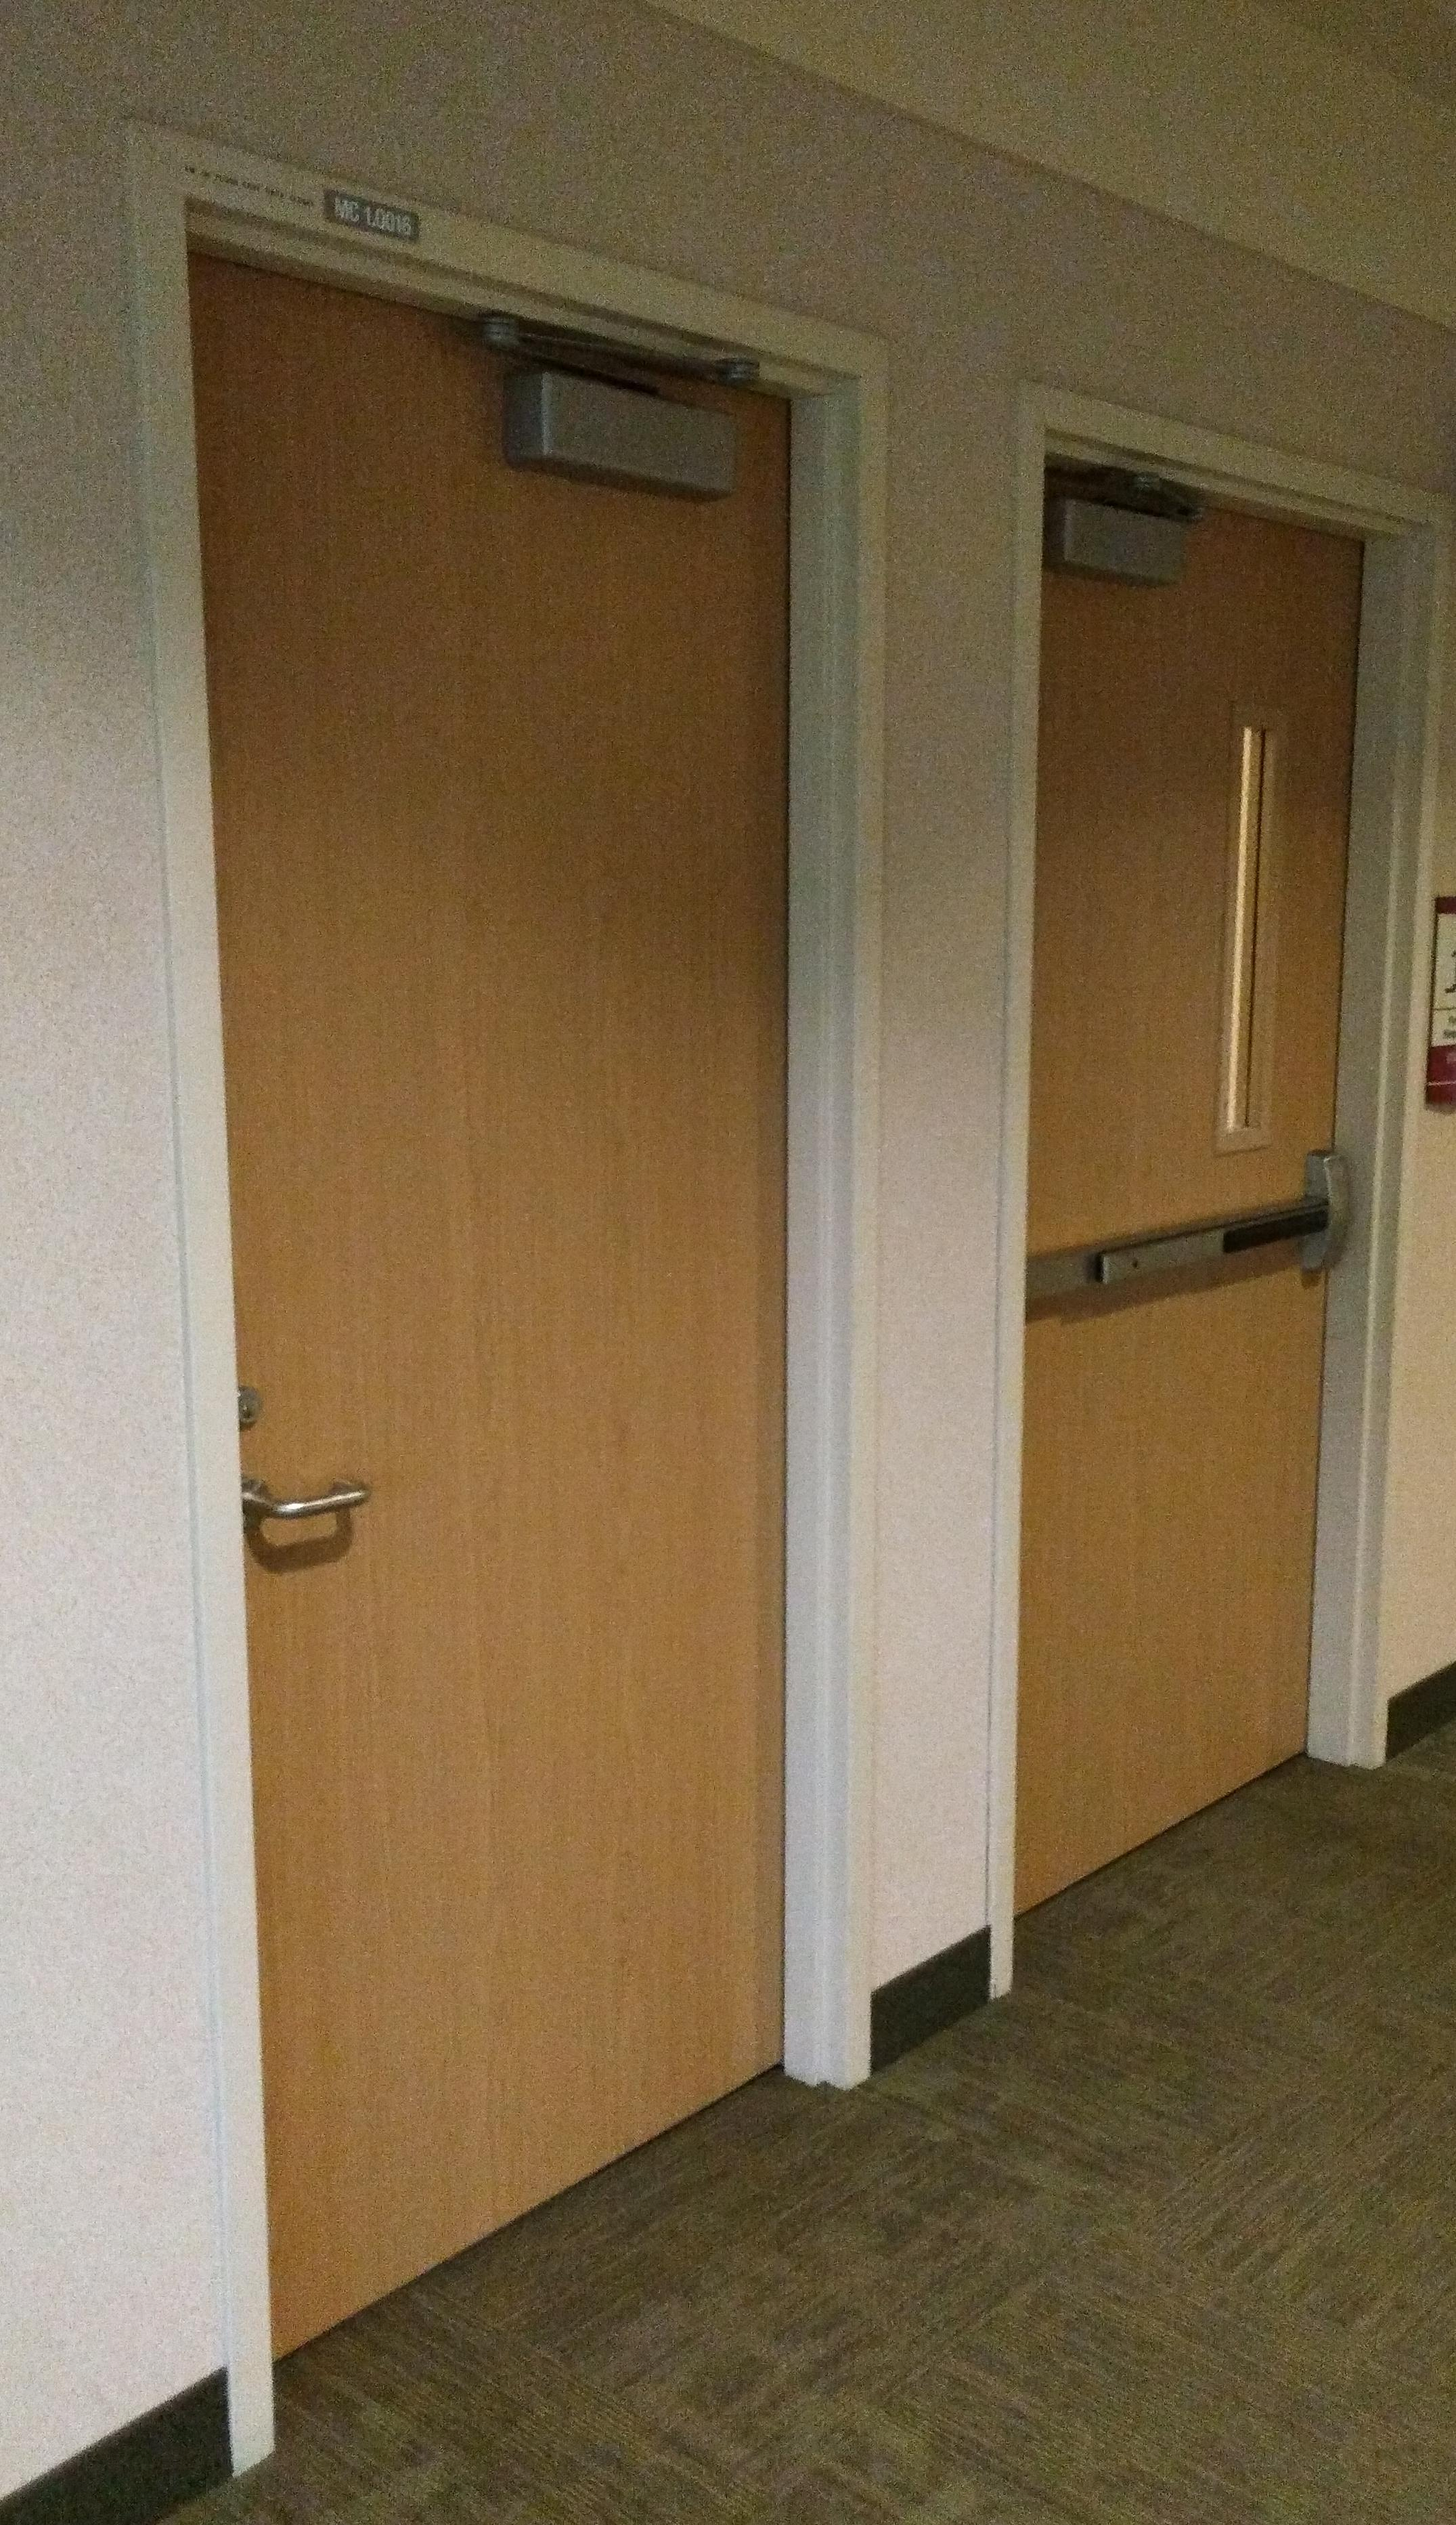door: (166, 191, 835, 2346), (1019, 423, 1371, 1909)
